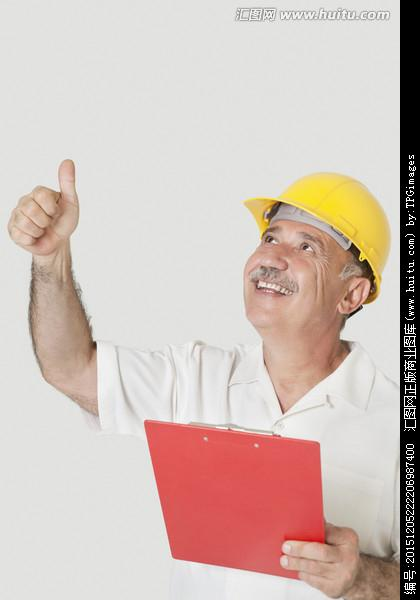helmet: (249, 170, 394, 295)
